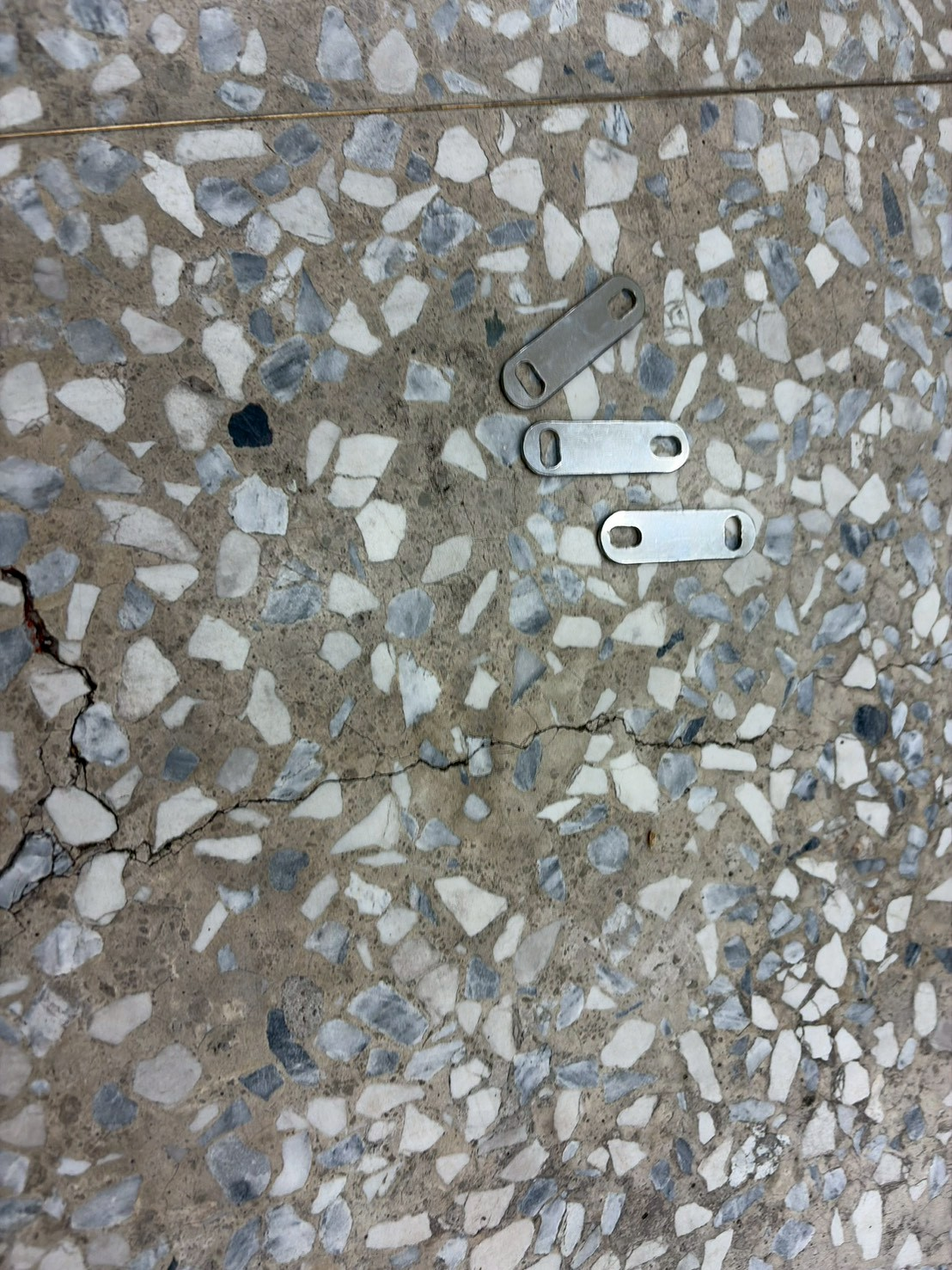Fe: (488, 374, 669, 436), (514, 415, 694, 477), (593, 508, 759, 569)
